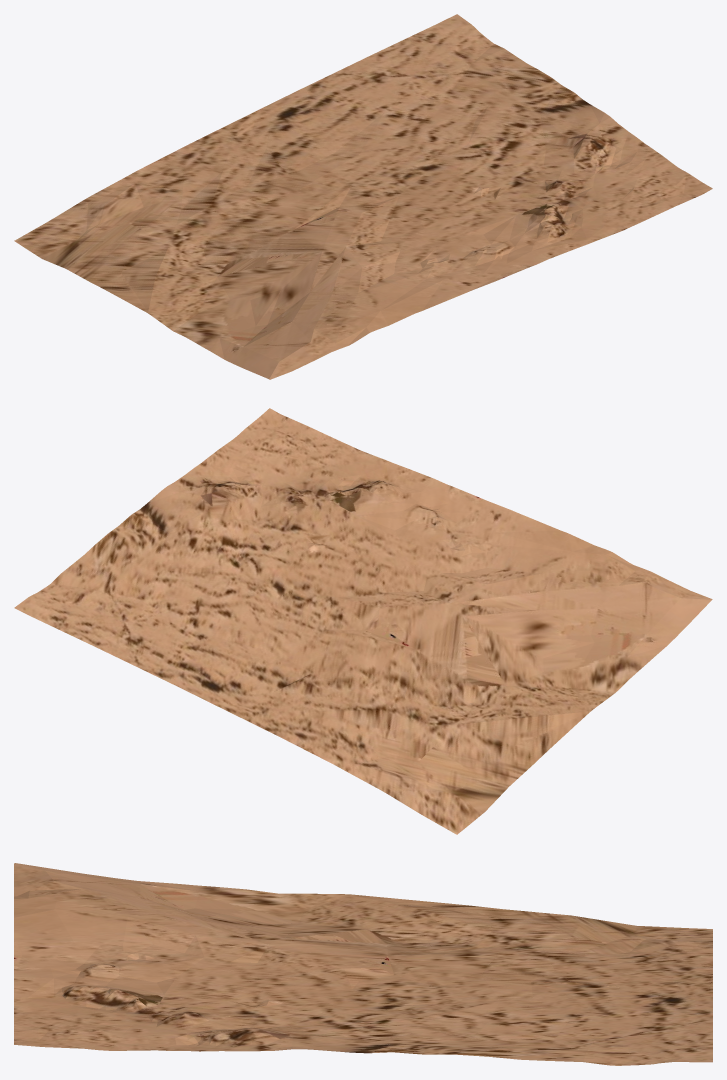
3 views of the same model, one above another, from view 1: azimuth 30°, elevation 25°; view 2: azimuth 150°, elevation 25°; view 3: azimuth 270°, elevation 25° (orthographic). The views are drawn at different scales.
Size of the model in its own units: 2.09 by 0.5914 by 2.09.
Materials: 2 (2 with a texture image).
